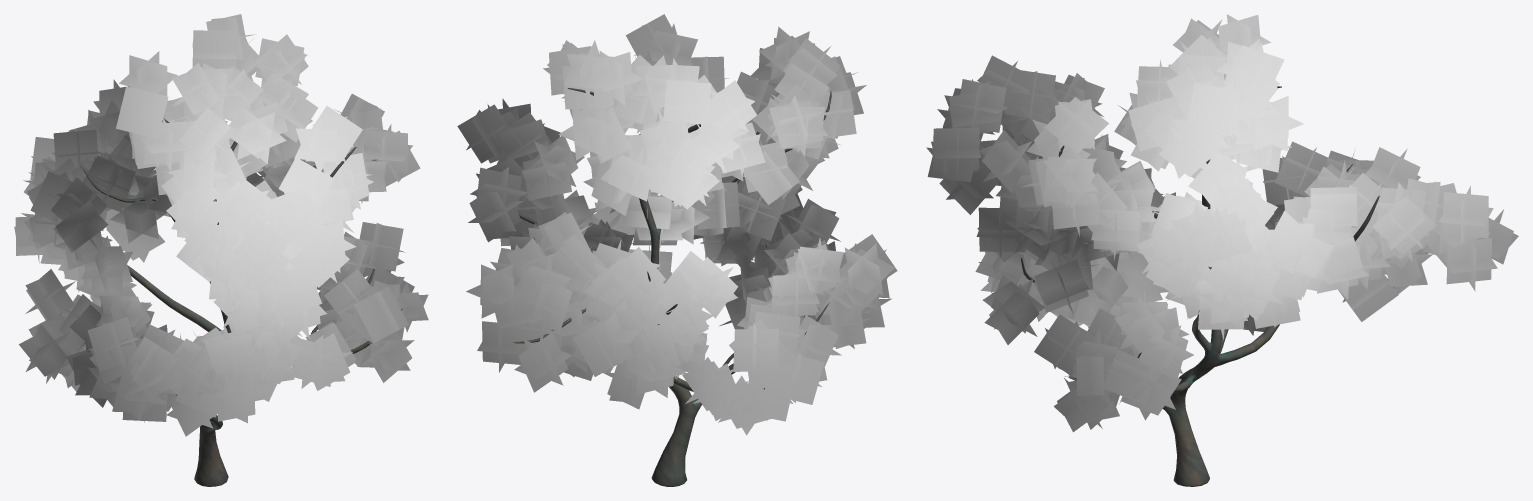
The model's file is Mesh_Veg_Ipe_01.fbx.
3 views of the same model, side by side, from view 1: azimuth 30°, elevation 25°; view 2: azimuth 150°, elevation 25°; view 3: azimuth 270°, elevation 25° (orthographic). The views are drawn at different scales.
Parts seen in each view (by area): view 1: Mesh_Veg_Ipe_Leaves_01, Mesh_Veg_Ipe_Trunk_01; view 2: Mesh_Veg_Ipe_Leaves_01, Mesh_Veg_Ipe_Trunk_01; view 3: Mesh_Veg_Ipe_Leaves_01, Mesh_Veg_Ipe_Trunk_01.
Part boxes in pixels (<box>): Mesh_Veg_Ipe_Leaves_01: <box>14,14,428,436</box>; Mesh_Veg_Ipe_Trunk_01: <box>81,118,402,486</box>; Mesh_Veg_Ipe_Leaves_01: <box>457,14,897,435</box>; Mesh_Veg_Ipe_Trunk_01: <box>514,88,831,486</box>; Mesh_Veg_Ipe_Leaves_01: <box>926,14,1518,432</box>; Mesh_Veg_Ipe_Trunk_01: <box>1021,86,1379,486</box>.
Bounding box in the file's own units: 18.54 × 21.13 × 24.64.
